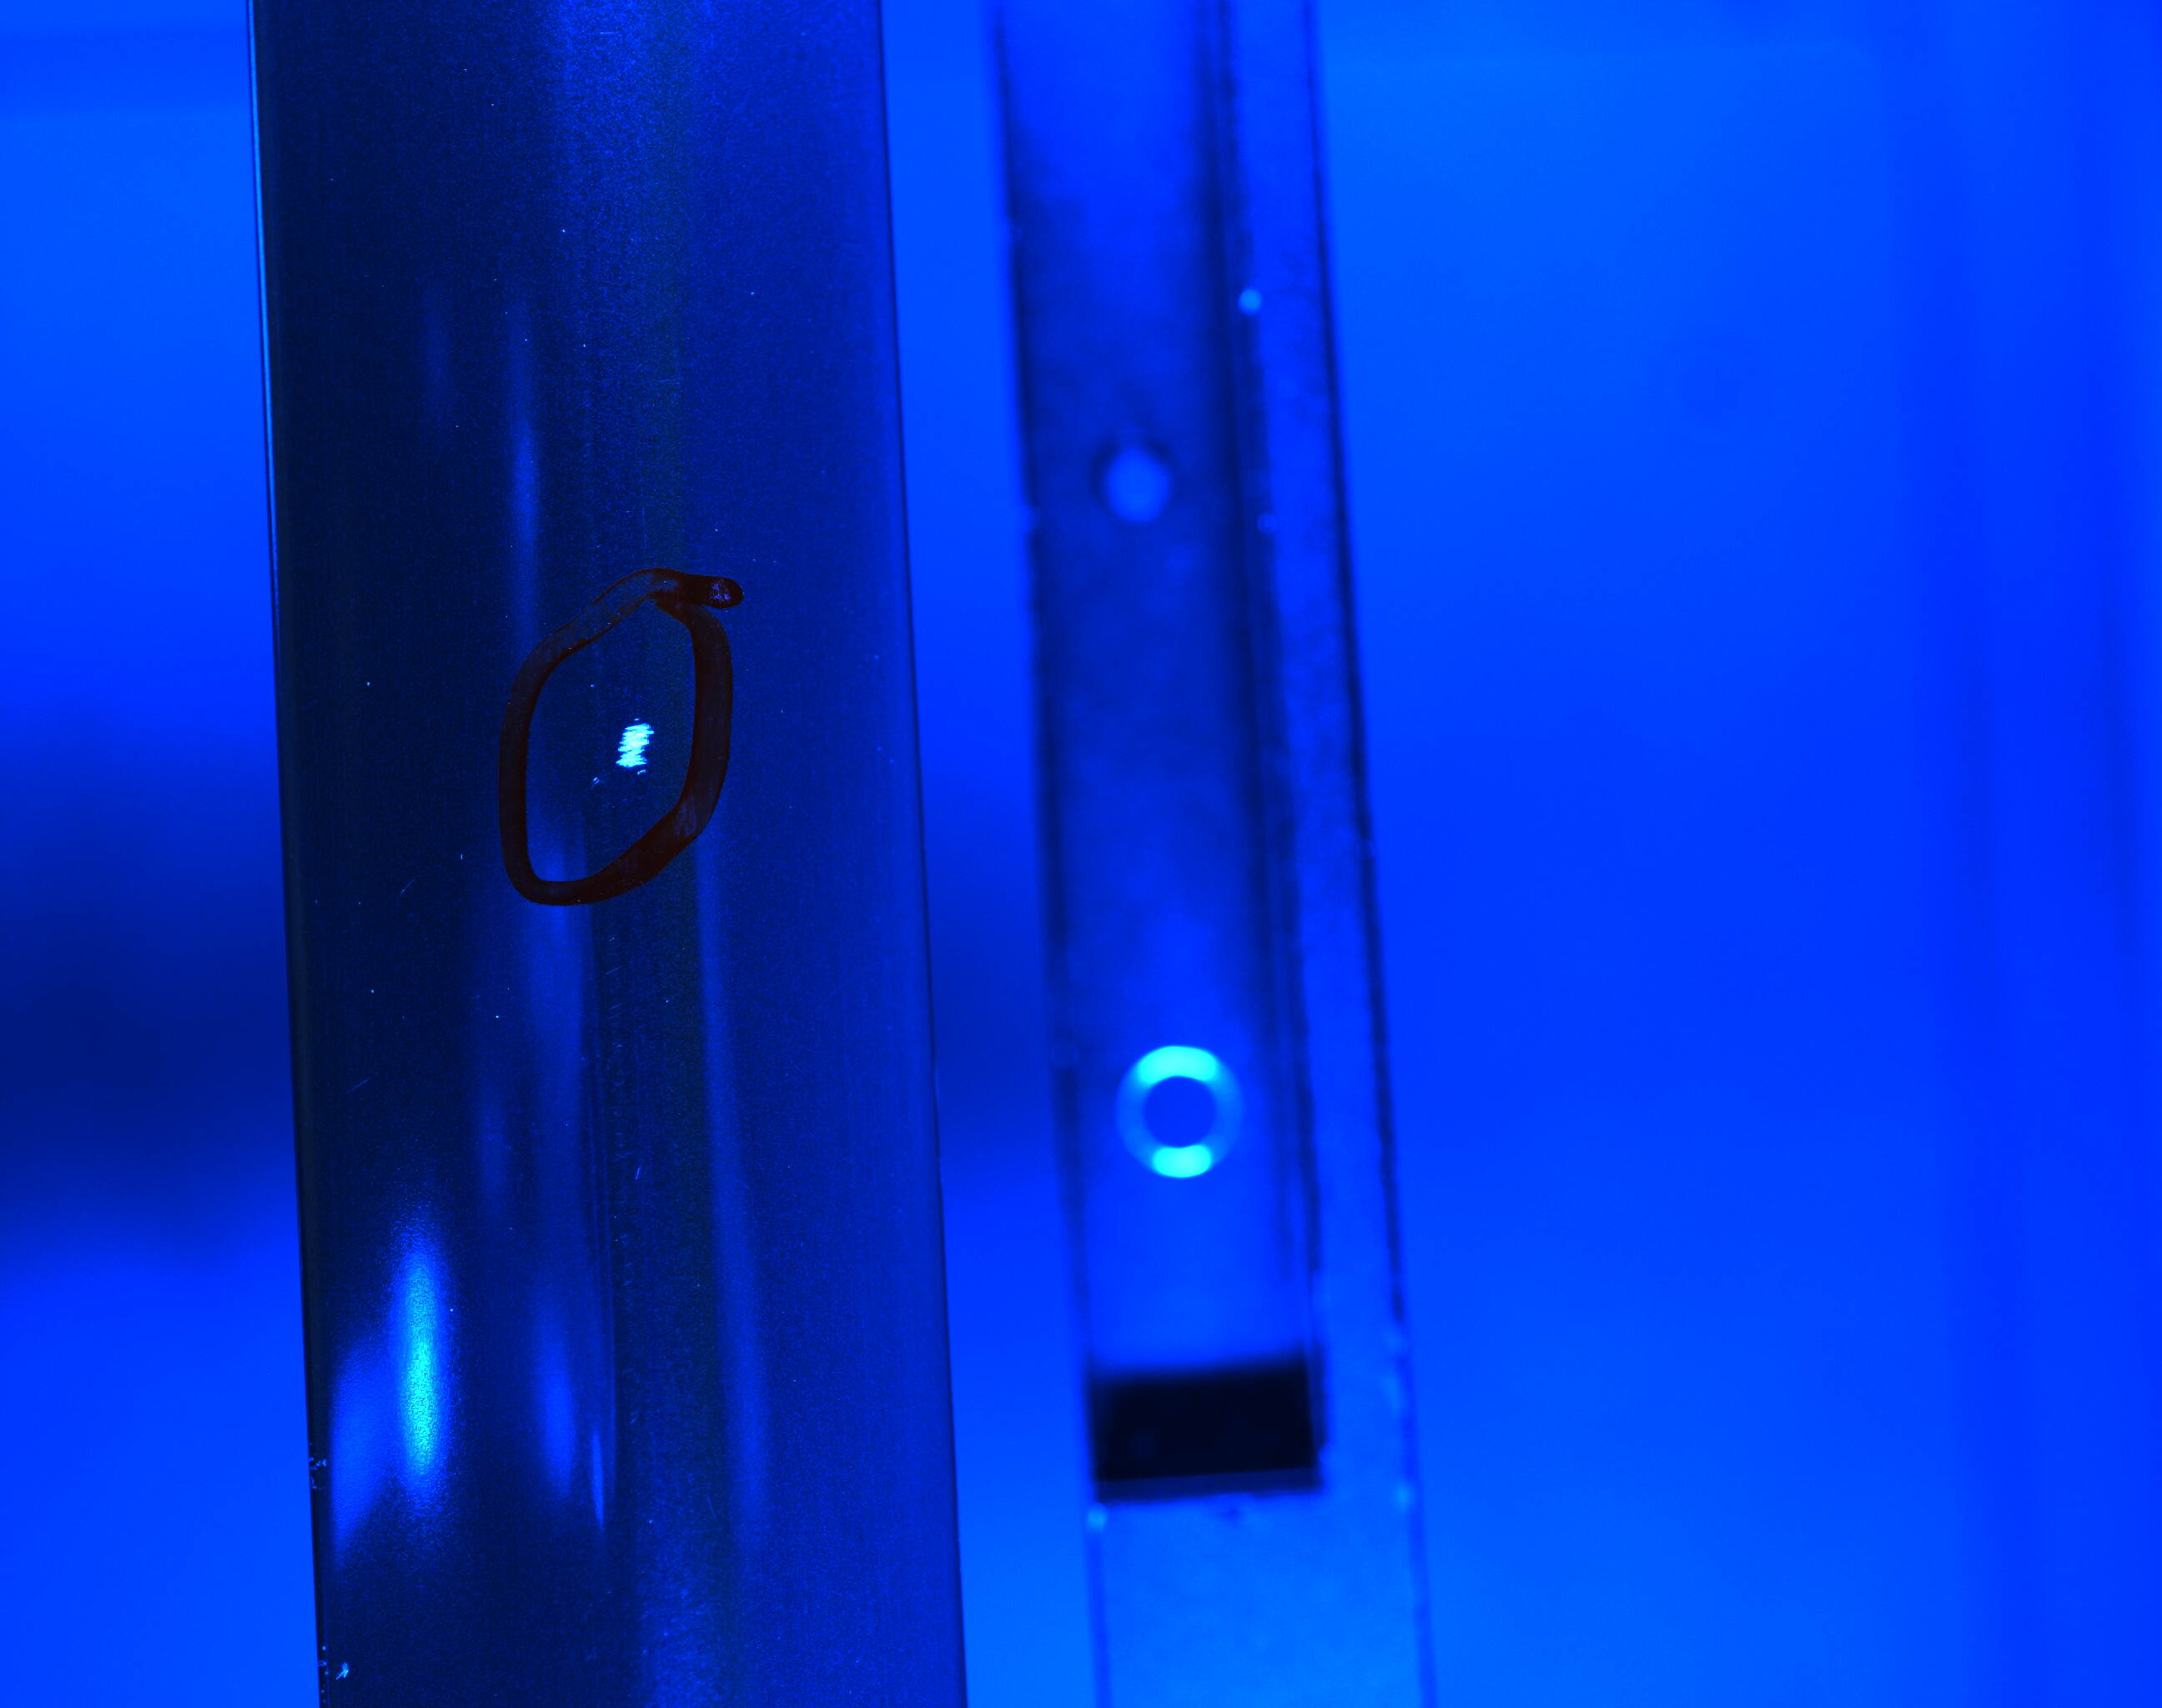NG: (590, 695, 665, 800), (325, 1633, 388, 1699)
